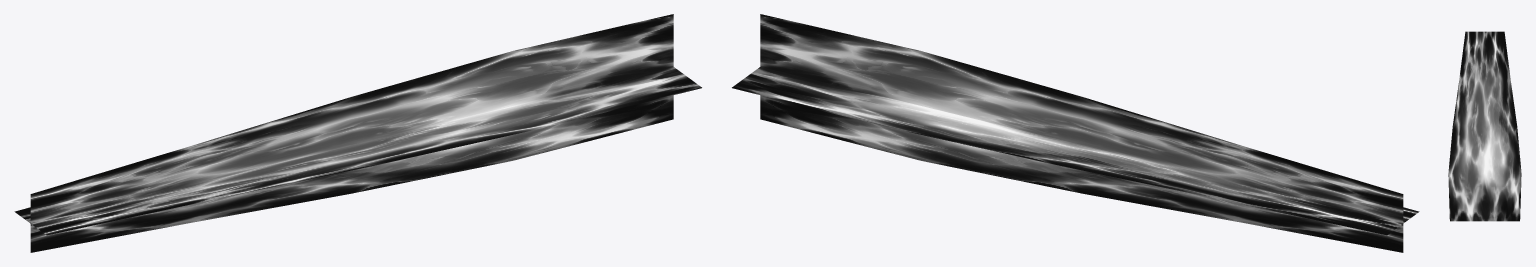
Rendered from fx_c353_00_ult_beam_arena__fx_c353_00_ult_fbx_01.glb.
3 views of the same model, side by side, from view 1: azimuth 30°, elevation 25°; view 2: azimuth 150°, elevation 25°; view 3: azimuth 270°, elevation 25° (orthographic). The views are drawn at different scales.
Parts seen in each view (by area): view 1: fx_c353_00_ult_beam_arena; view 2: fx_c353_00_ult_beam_arena; view 3: fx_c353_00_ult_beam_arena.
Part boxes in pixels (x1=…): fx_c353_00_ult_beam_arena: x1=14, y1=14, x2=701, y2=252; fx_c353_00_ult_beam_arena: x1=732, y1=14, x2=1419, y2=252; fx_c353_00_ult_beam_arena: x1=1448, y1=31, x2=1521, y2=221.
Bounding box in the file's own units: 7.98 × 1.3 × 1.3.
Materials: 1 (1 with a texture image).
